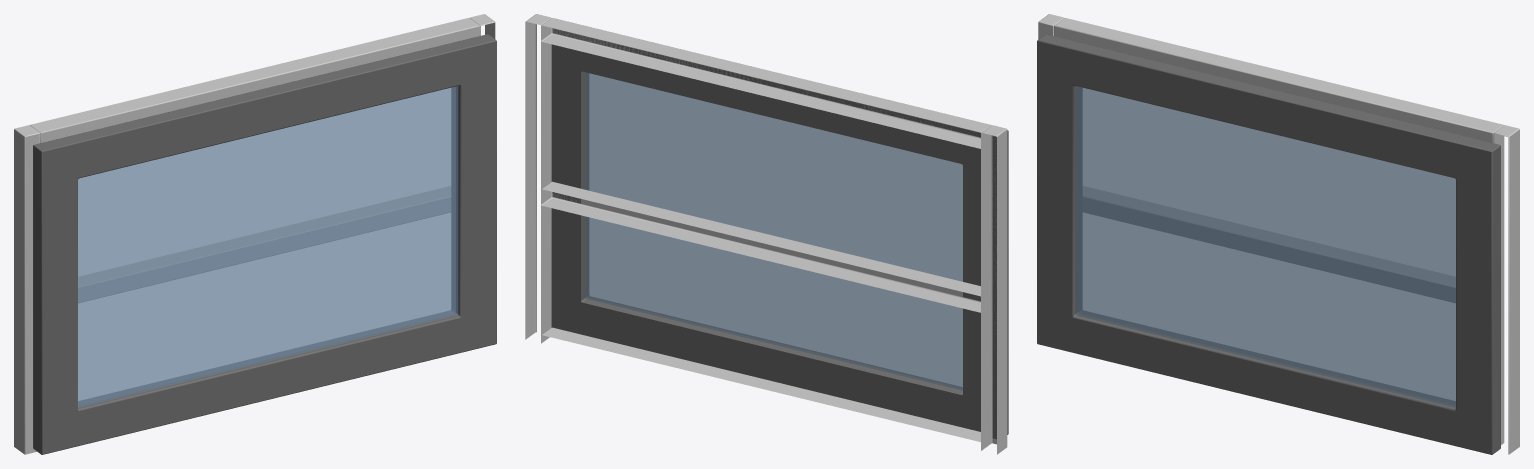
The model's file is doorUp.obj.
3 renders of one model, left to right at view 1: azimuth 30°, elevation 25°; view 2: azimuth 150°, elevation 25°; view 3: azimuth 330°, elevation 25°, orthographic.
Visible parts, largest first — view 1: 286.003; view 2: 286.003; view 3: 286.003.
Part boxes in pixels (x1,y1,x2,y2): 286.003: (14,14,496,454); 286.003: (525,14,1008,454); 286.003: (1037,14,1519,454).
Bounding box in the file's own units: 0.6 × 0.3873 × 0.0438.
